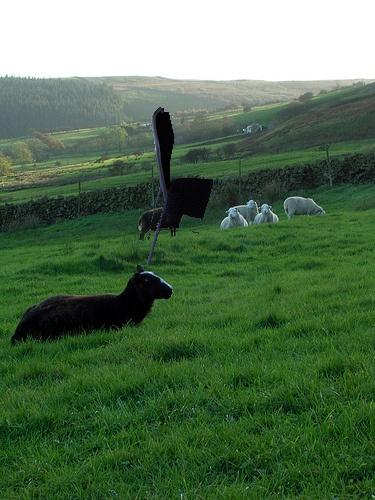tampered: (148, 108, 213, 265)
